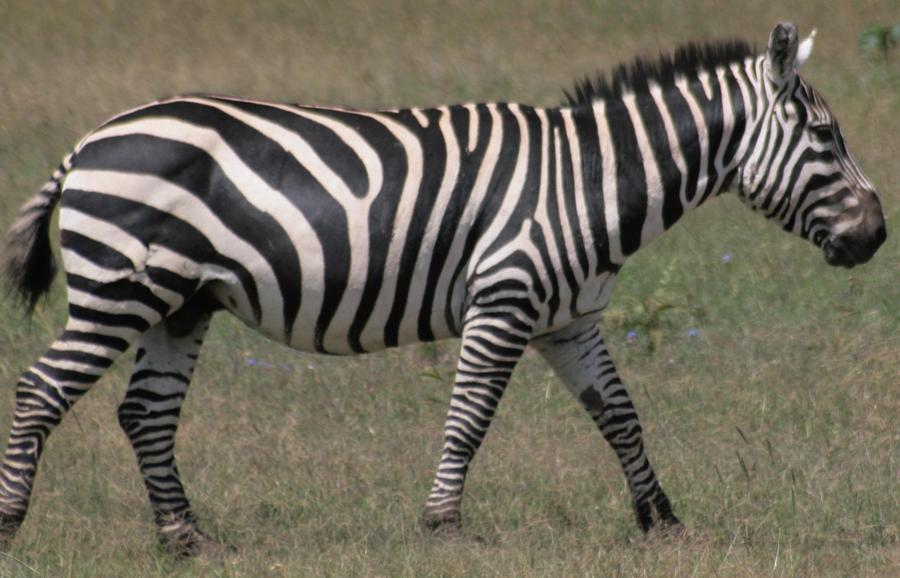zebra_plains: (46, 98, 572, 332)
